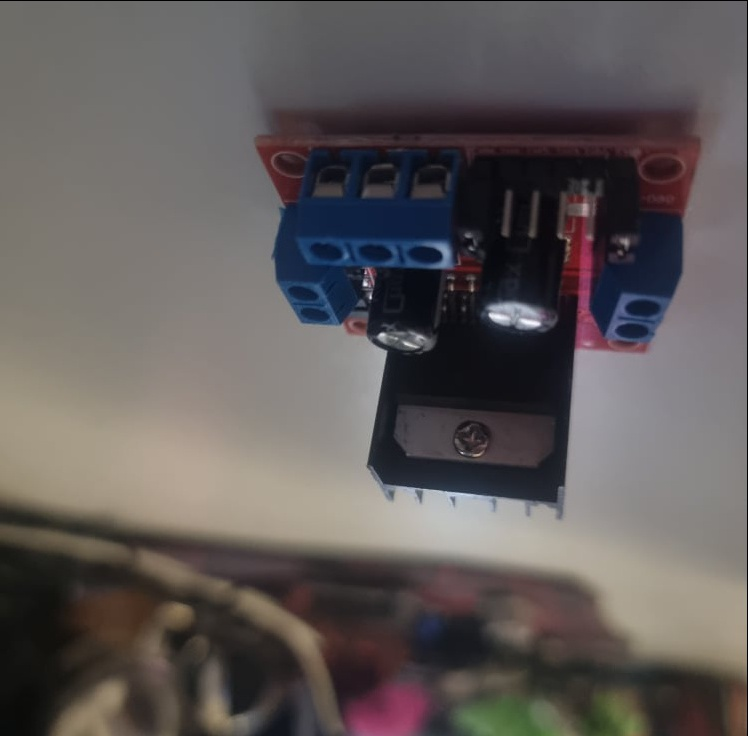MOTOR: (253, 130, 700, 522)
